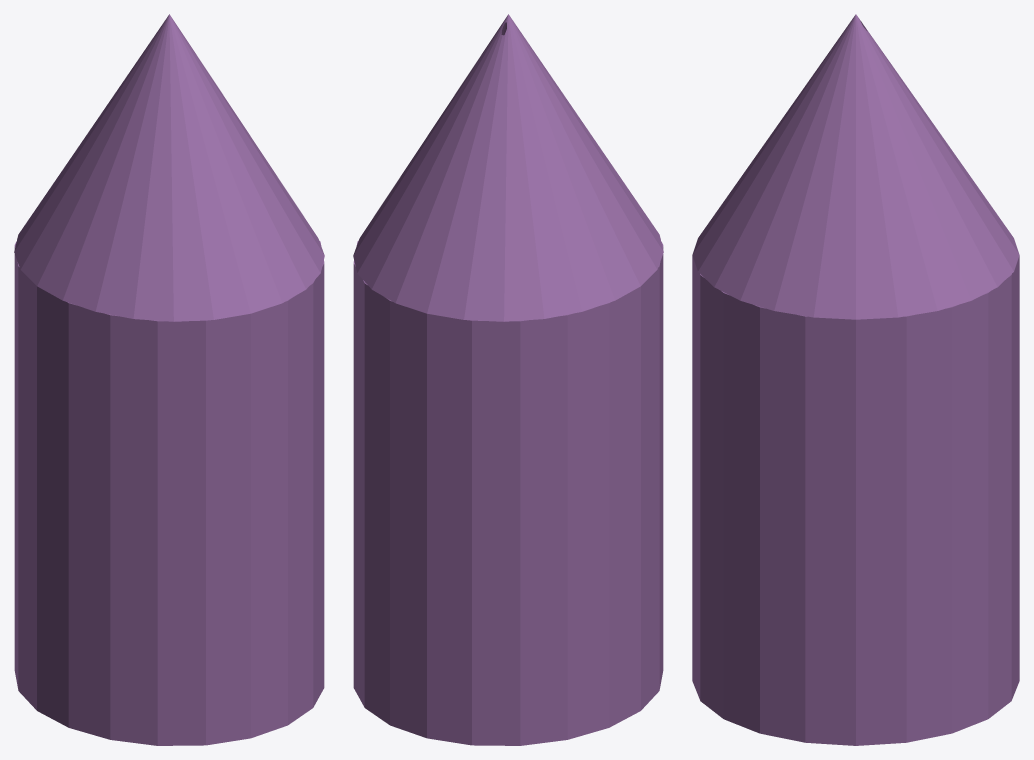
File: Figura.glb
The picture shows the model from 3 angles, left to right: view 1: azimuth 30°, elevation 25°; view 2: azimuth 150°, elevation 25°; view 3: azimuth 270°, elevation 25°; orthographic projection.
Parts seen in each view (by area): view 1: Mesh_Mesh_head_geo.001_lambert2SG.001; view 2: Mesh_Mesh_head_geo.001_lambert2SG.001; view 3: Mesh_Mesh_head_geo.001_lambert2SG.001.
Boxes of the visible parts, <box> form: Mesh_Mesh_head_geo.001_lambert2SG.001: <box>14,14,324,745</box>; Mesh_Mesh_head_geo.001_lambert2SG.001: <box>353,14,663,745</box>; Mesh_Mesh_head_geo.001_lambert2SG.001: <box>692,14,1019,745</box>.
Size of the model in its own units: 30 by 72 by 32.
